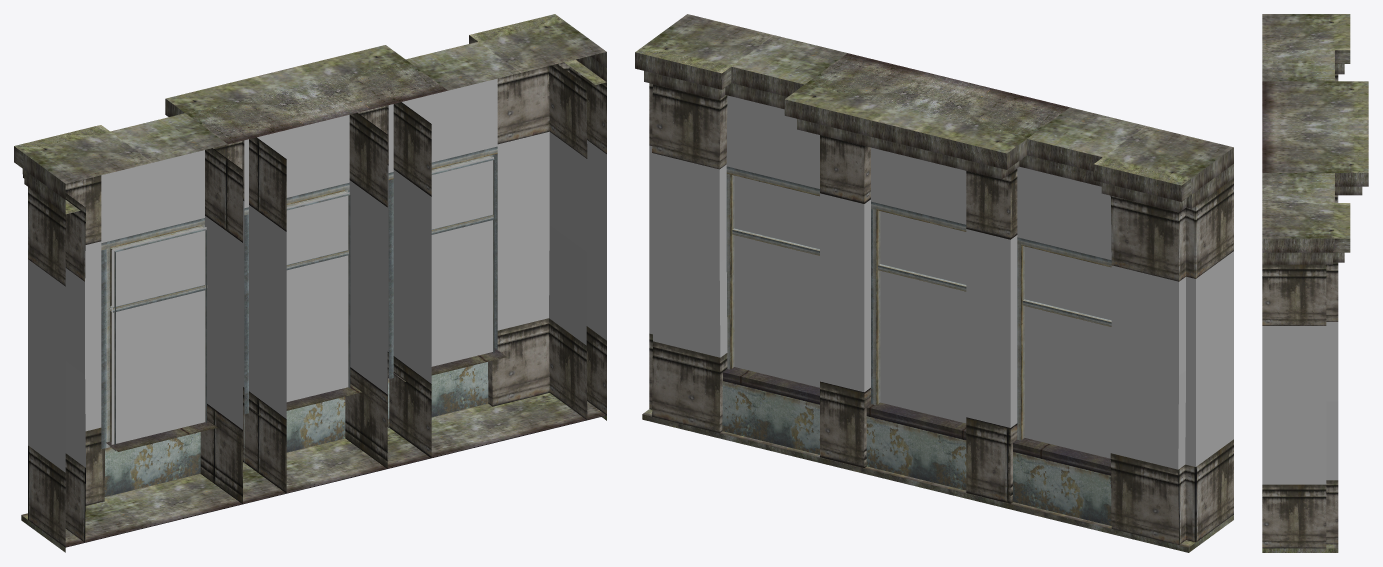
The model's file is Store_front_43.fbx.
3 views of the same model, side by side, from view 1: azimuth 30°, elevation 25°; view 2: azimuth 150°, elevation 25°; view 3: azimuth 270°, elevation 25° (orthographic). The views are drawn at different scales.
Parts seen in each view (by area): view 1: Store_front_43; view 2: Store_front_43; view 3: Store_front_43.
Boxes of the visible parts, <box> form: Store_front_43: <box>14,14,606,552</box>; Store_front_43: <box>635,14,1233,552</box>; Store_front_43: <box>1262,14,1368,552</box>.
Size of the model in its own units: 700 by 456 by 140.
